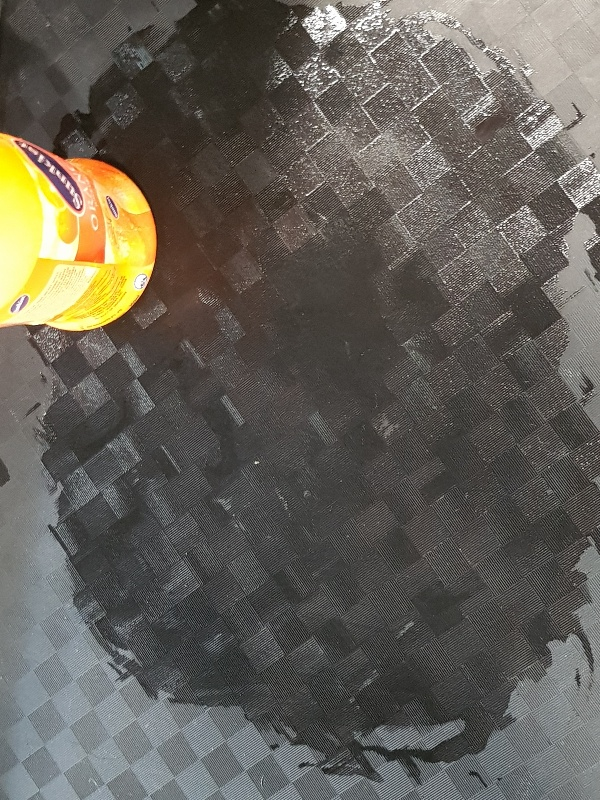Sunkist Orange Juice Drink: (1, 130, 157, 333)
